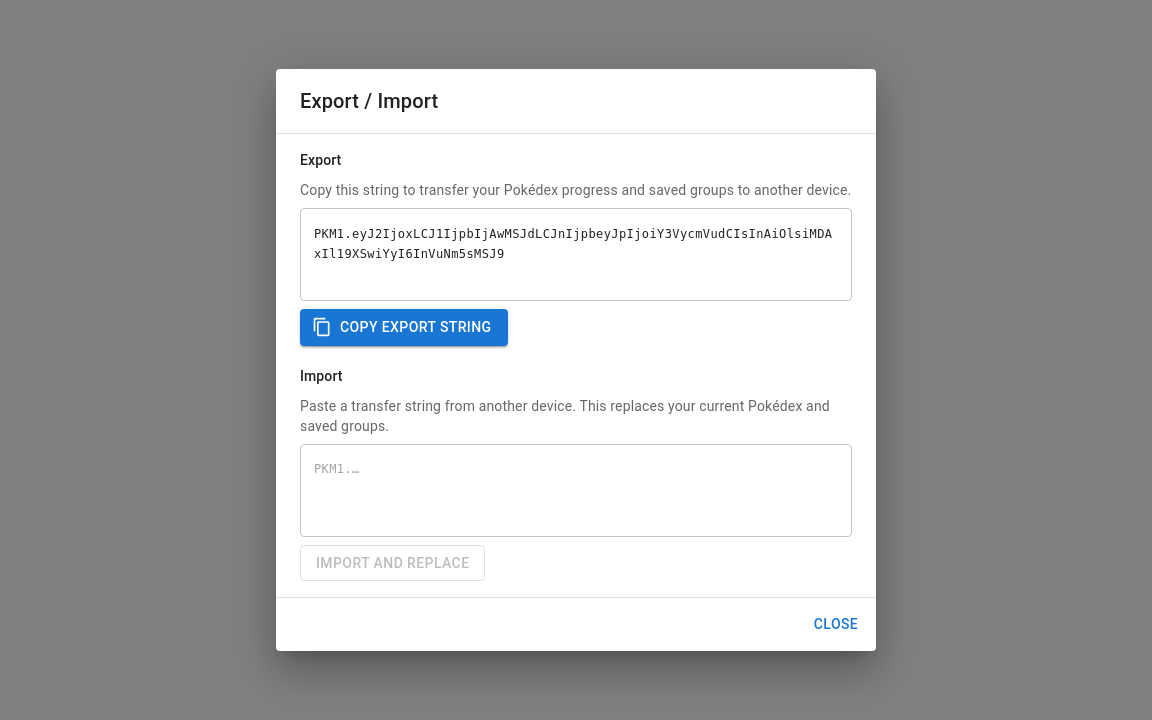
Test: LayoutDataTransferDialog › exports current data and reports successful clipboard copying
Click the button "Copy export string": (404, 327) [300,309,508,346]
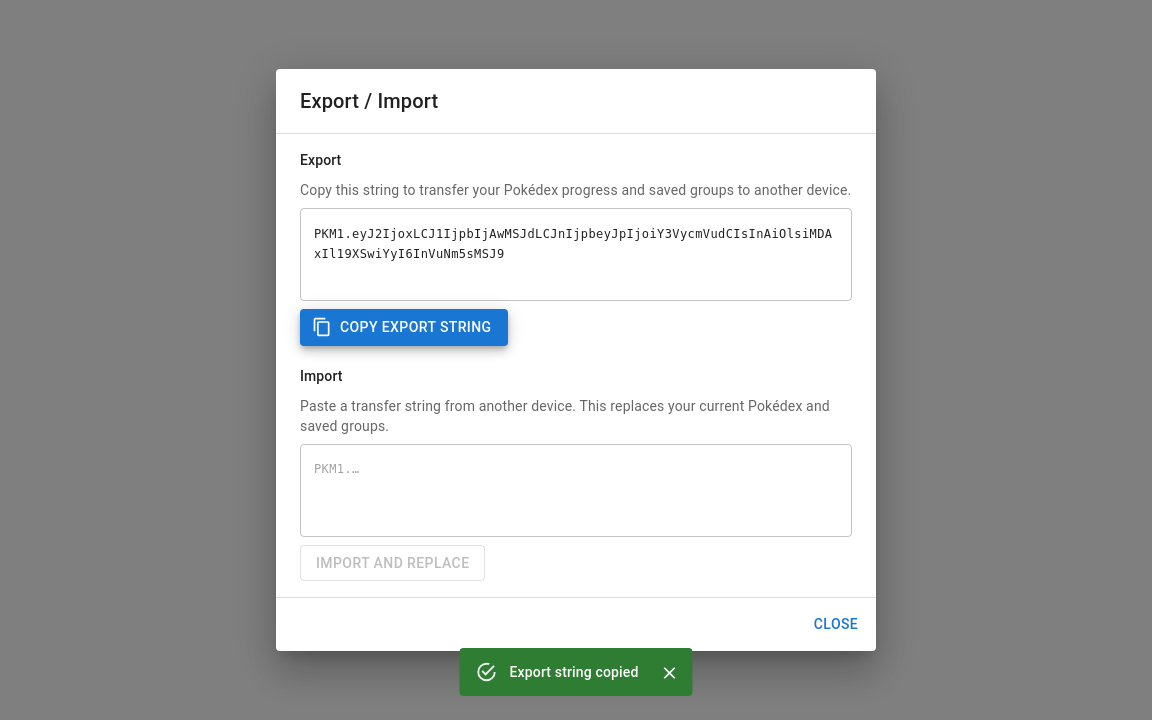
expect the text "Export string copied" is shown: met, box [510,664,638,680]
